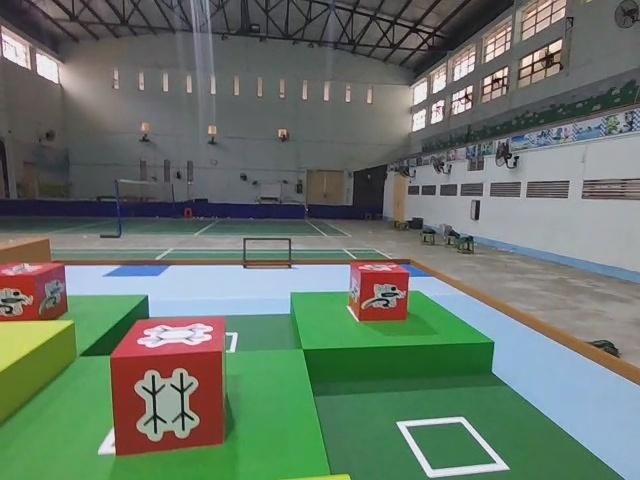R1: (0, 260, 69, 323), (347, 258, 410, 322)
R2 Real: (107, 313, 231, 459)
